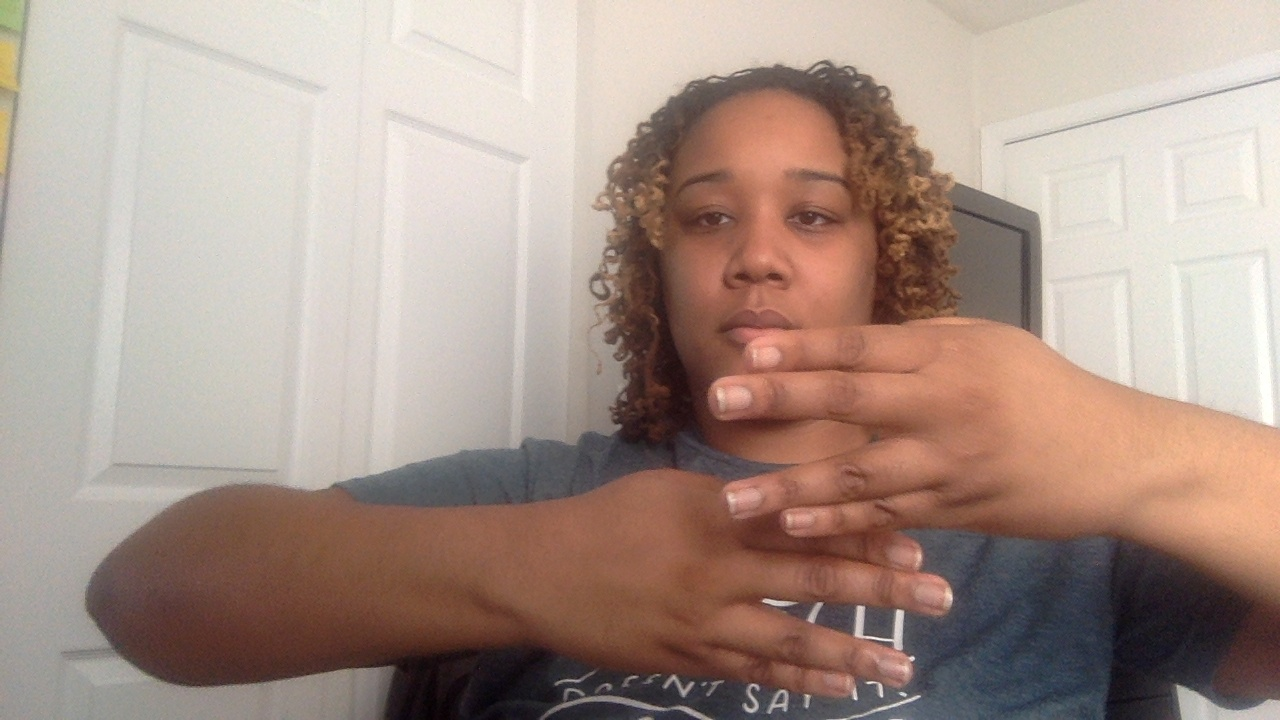world: (507, 330, 1026, 720)
